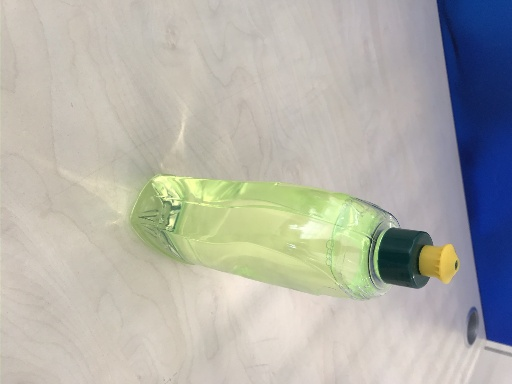Sapone: (130, 172, 459, 301)
